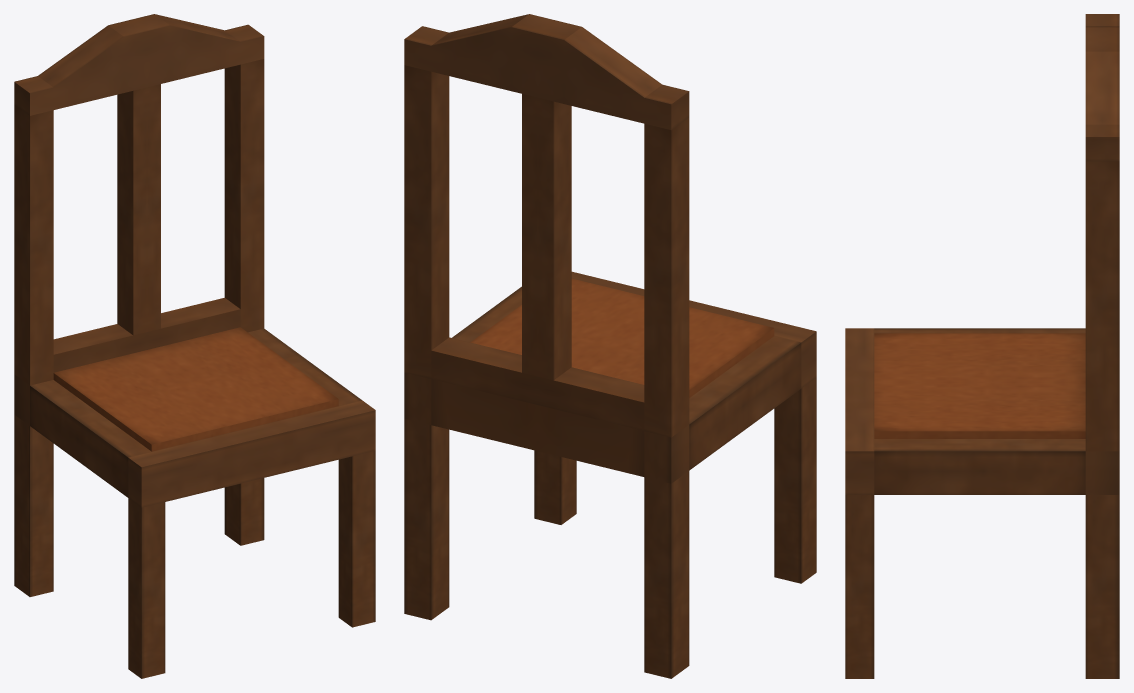
The model's file is Chair.fbx.
3 renders of one model, left to right at view 1: azimuth 30°, elevation 25°; view 2: azimuth 150°, elevation 25°; view 3: azimuth 270°, elevation 25°, orthographic. The views are drawn at different scales.
Visible parts, largest first — view 1: Chair; view 2: Chair; view 3: Chair.
Part boxes in pixels (box(x1,y1,x2,y2)): Chair: box(14, 14, 375, 678); Chair: box(404, 14, 816, 678); Chair: box(845, 14, 1119, 678).
Bounding box in the file's own units: 155 × 146 × 339.
